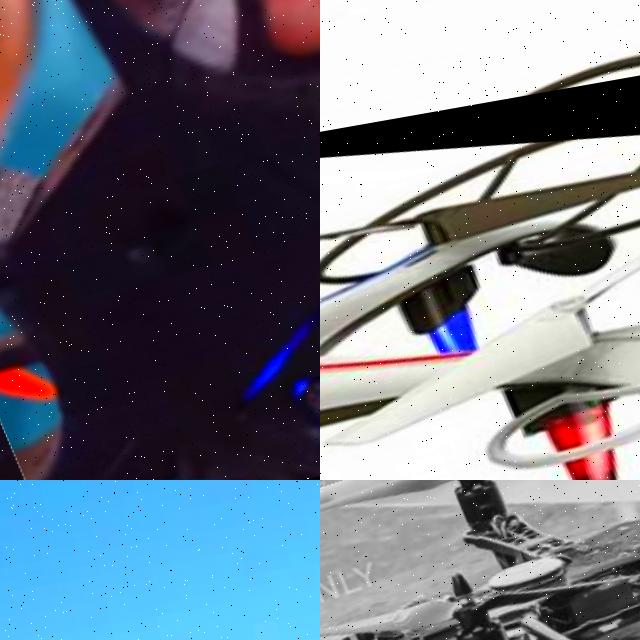drone: (0, 0, 320, 480), (320, 64, 640, 480), (320, 480, 640, 640)
